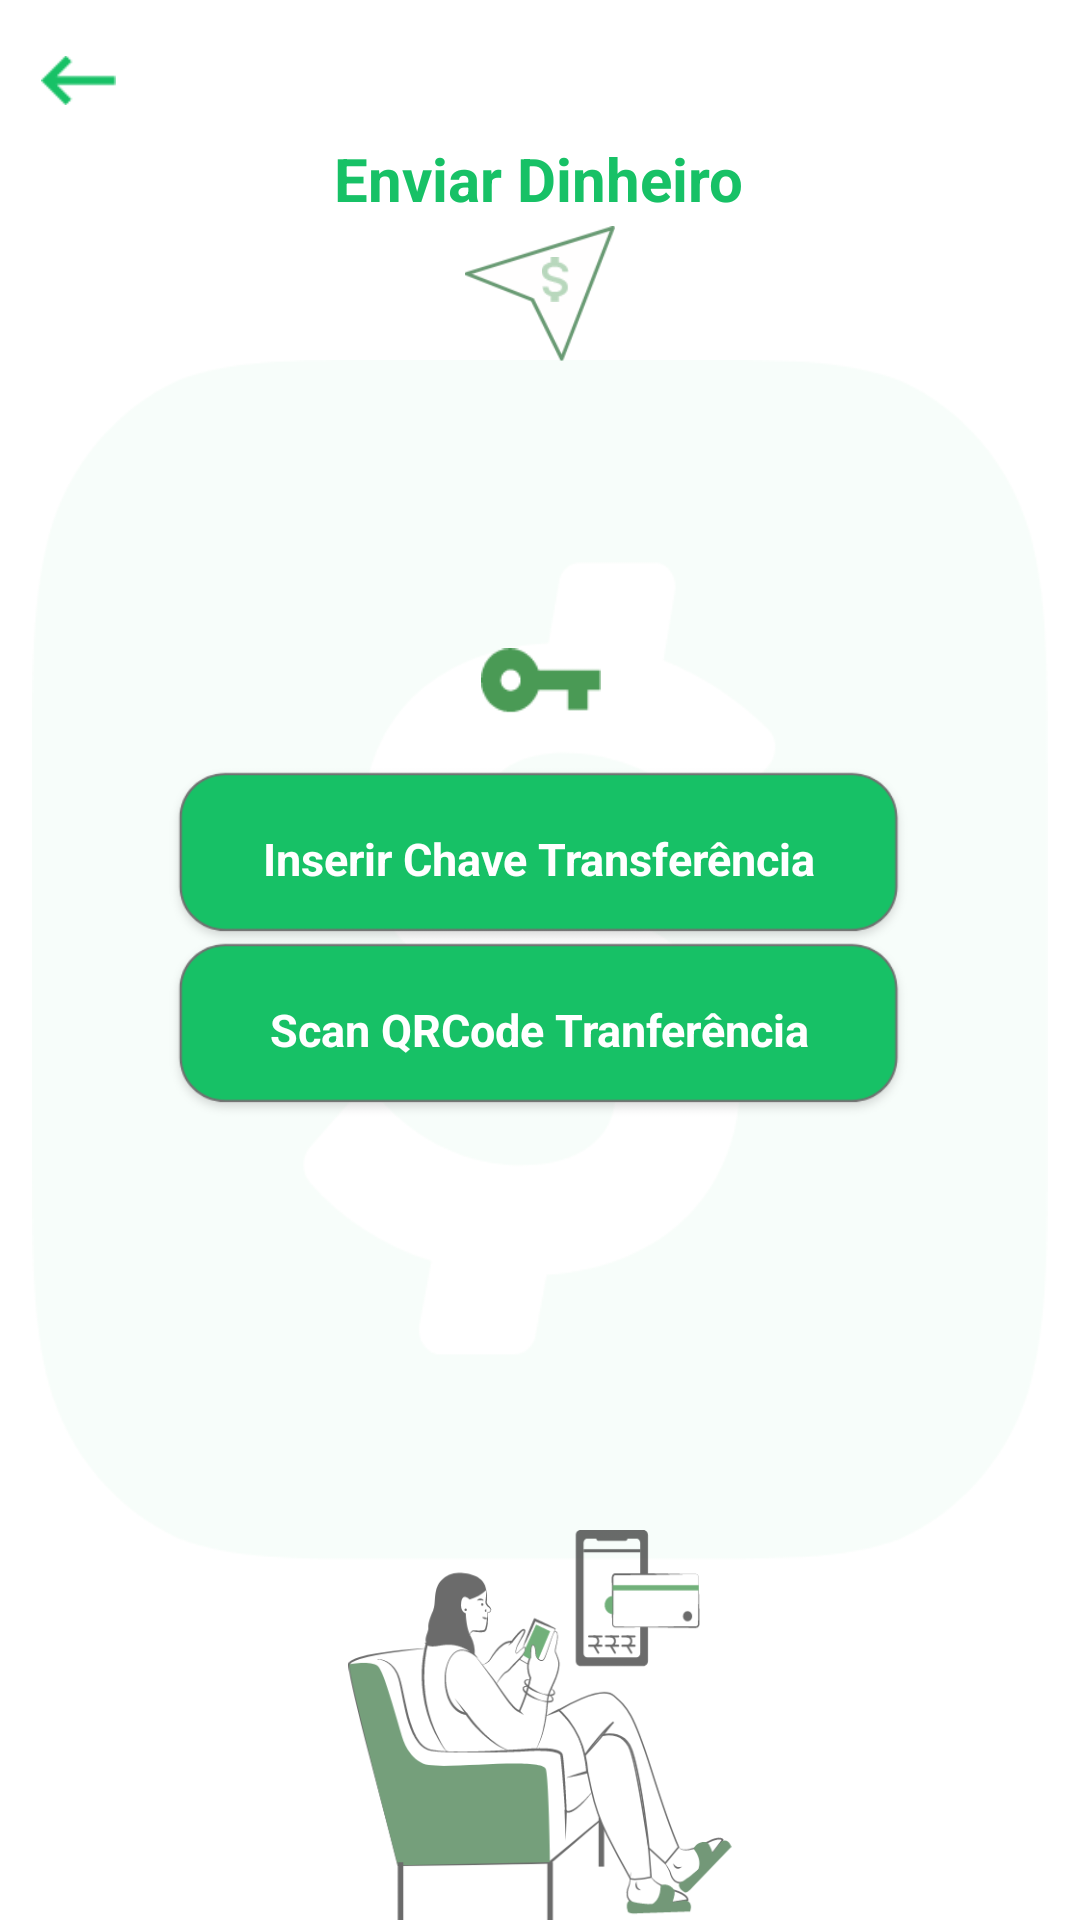

Icon click points for this 1080w x 1920h phone screenshot, format [x,y]:
arrow: [78,80]
key: [541,680]
